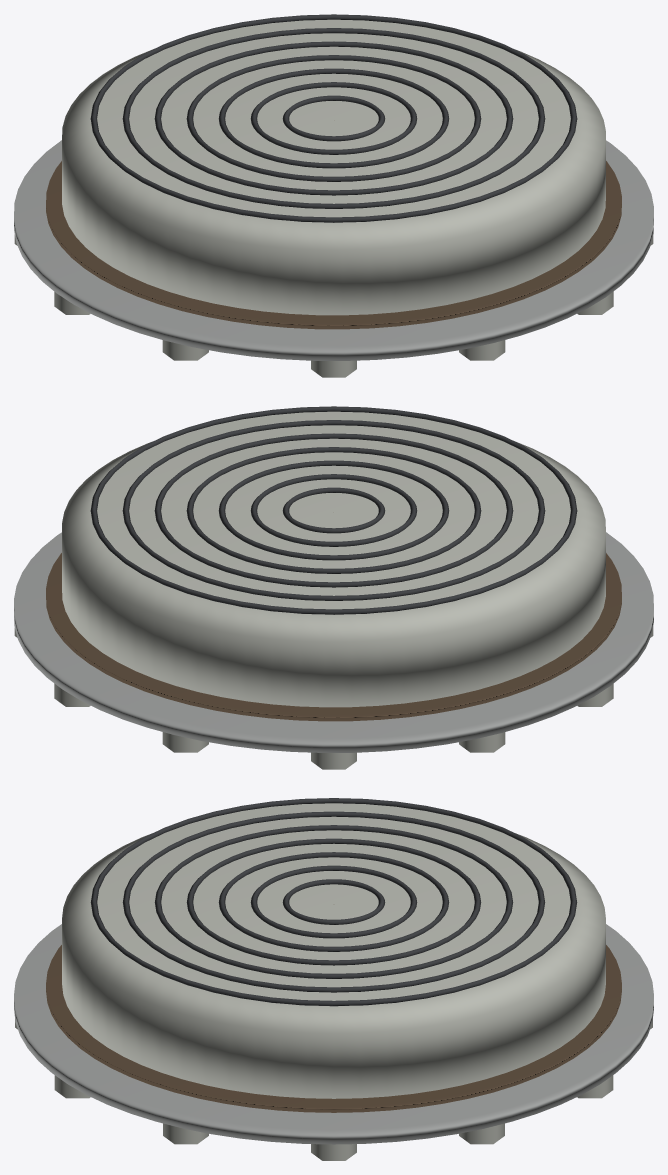
The model's file is sump-plate.glb.
The picture shows the model from 3 angles, top to bottom: view 1: azimuth 30°, elevation 25°; view 2: azimuth 150°, elevation 25°; view 3: azimuth 270°, elevation 25°; orthographic projection.
Visible parts, largest first — view 1: sump-plate:zincPlate, sump-plate:castAlu, sump-plate:darkSteel, sump-plate:gasket; view 2: sump-plate:zincPlate, sump-plate:castAlu, sump-plate:darkSteel, sump-plate:gasket; view 3: sump-plate:zincPlate, sump-plate:castAlu, sump-plate:darkSteel, sump-plate:gasket.
Part boxes in pixels (left/top/right/bottom): sump-plate:zincPlate: left=14, top=19, right=653, bottom=377; sump-plate:castAlu: left=14, top=140, right=653, bottom=360; sump-plate:darkSteel: left=90, top=14, right=577, bottom=222; sump-plate:gasket: left=46, top=161, right=621, bottom=329; sump-plate:zincPlate: left=14, top=411, right=653, bottom=769; sump-plate:castAlu: left=14, top=532, right=653, bottom=752; sump-plate:darkSteel: left=90, top=406, right=577, bottom=614; sump-plate:gasket: left=46, top=553, right=621, bottom=721; sump-plate:zincPlate: left=15, top=803, right=652, bottom=1160; sump-plate:castAlu: left=14, top=924, right=653, bottom=1144; sump-plate:darkSteel: left=90, top=798, right=577, bottom=1006; sump-plate:gasket: left=46, top=945, right=621, bottom=1112.
Bounding box in the file's own units: 160 × 46.3 × 160.
